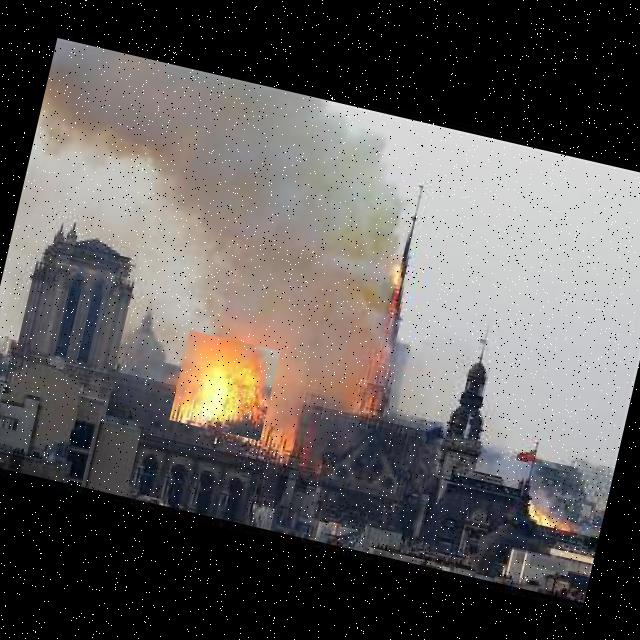fire: (169, 330, 280, 440)
